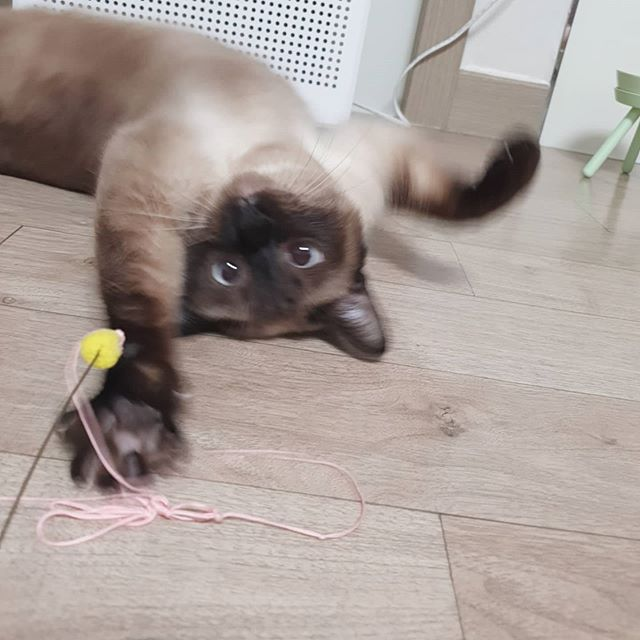cat: (174, 172, 390, 363)
